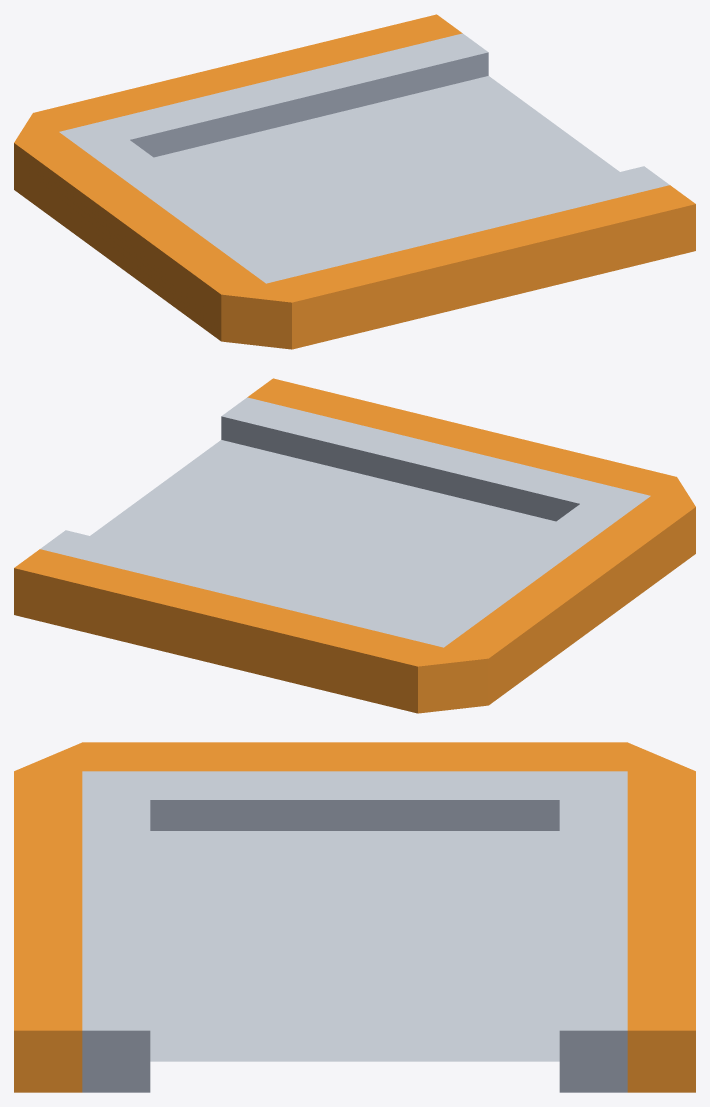
Rendered from platform_end.glb.
3 views of the same model, one above another, from view 1: azimuth 30°, elevation 25°; view 2: azimuth 150°, elevation 25°; view 3: azimuth 270°, elevation 25° (orthographic). The views are drawn at different scales.
Visible parts, largest first — view 1: platform_end; view 2: platform_end; view 3: platform_end.
Boxes of the visible parts, bbox=[...] form: platform_end: bbox=[14, 14, 695, 349]; platform_end: bbox=[14, 378, 695, 713]; platform_end: bbox=[14, 742, 695, 1092].
Bounding box in the file's own units: 1 × 0.1 × 1.
